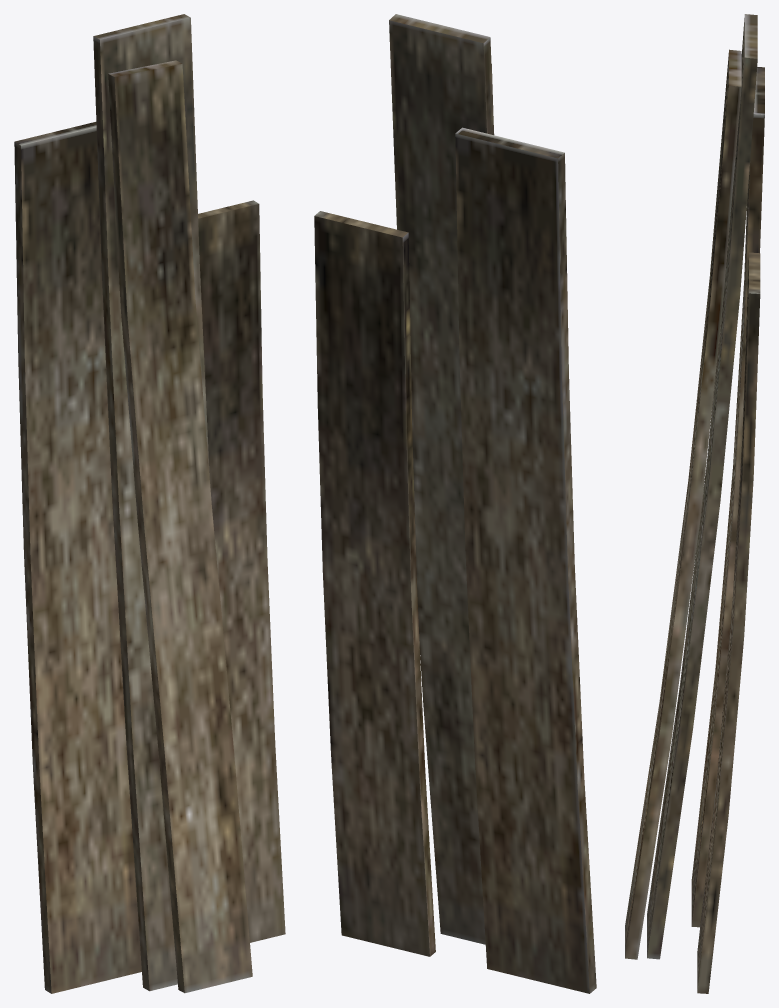
File: sm26_005_woodpanel01a.fbx
3 renders of one model, left to right at view 1: azimuth 30°, elevation 25°; view 2: azimuth 150°, elevation 25°; view 3: azimuth 270°, elevation 25°, orthographic. The views are drawn at different scales.
Parts seen in each view (by area): view 1: LOD_1_Group_0_Sub_1__sm26_005_WoodPanel01A_A_Mat; view 2: LOD_1_Group_0_Sub_1__sm26_005_WoodPanel01A_A_Mat; view 3: LOD_1_Group_0_Sub_1__sm26_005_WoodPanel01A_A_Mat.
Boxes of the visible parts, x1,y1,x2,y2 form: LOD_1_Group_0_Sub_1__sm26_005_WoodPanel01A_A_Mat: [14, 14, 285, 993]; LOD_1_Group_0_Sub_1__sm26_005_WoodPanel01A_A_Mat: [314, 14, 596, 993]; LOD_1_Group_0_Sub_1__sm26_005_WoodPanel01A_A_Mat: [625, 14, 764, 993].
Bounding box in the file's own units: 0.4948 × 1.83 × 0.2573.
